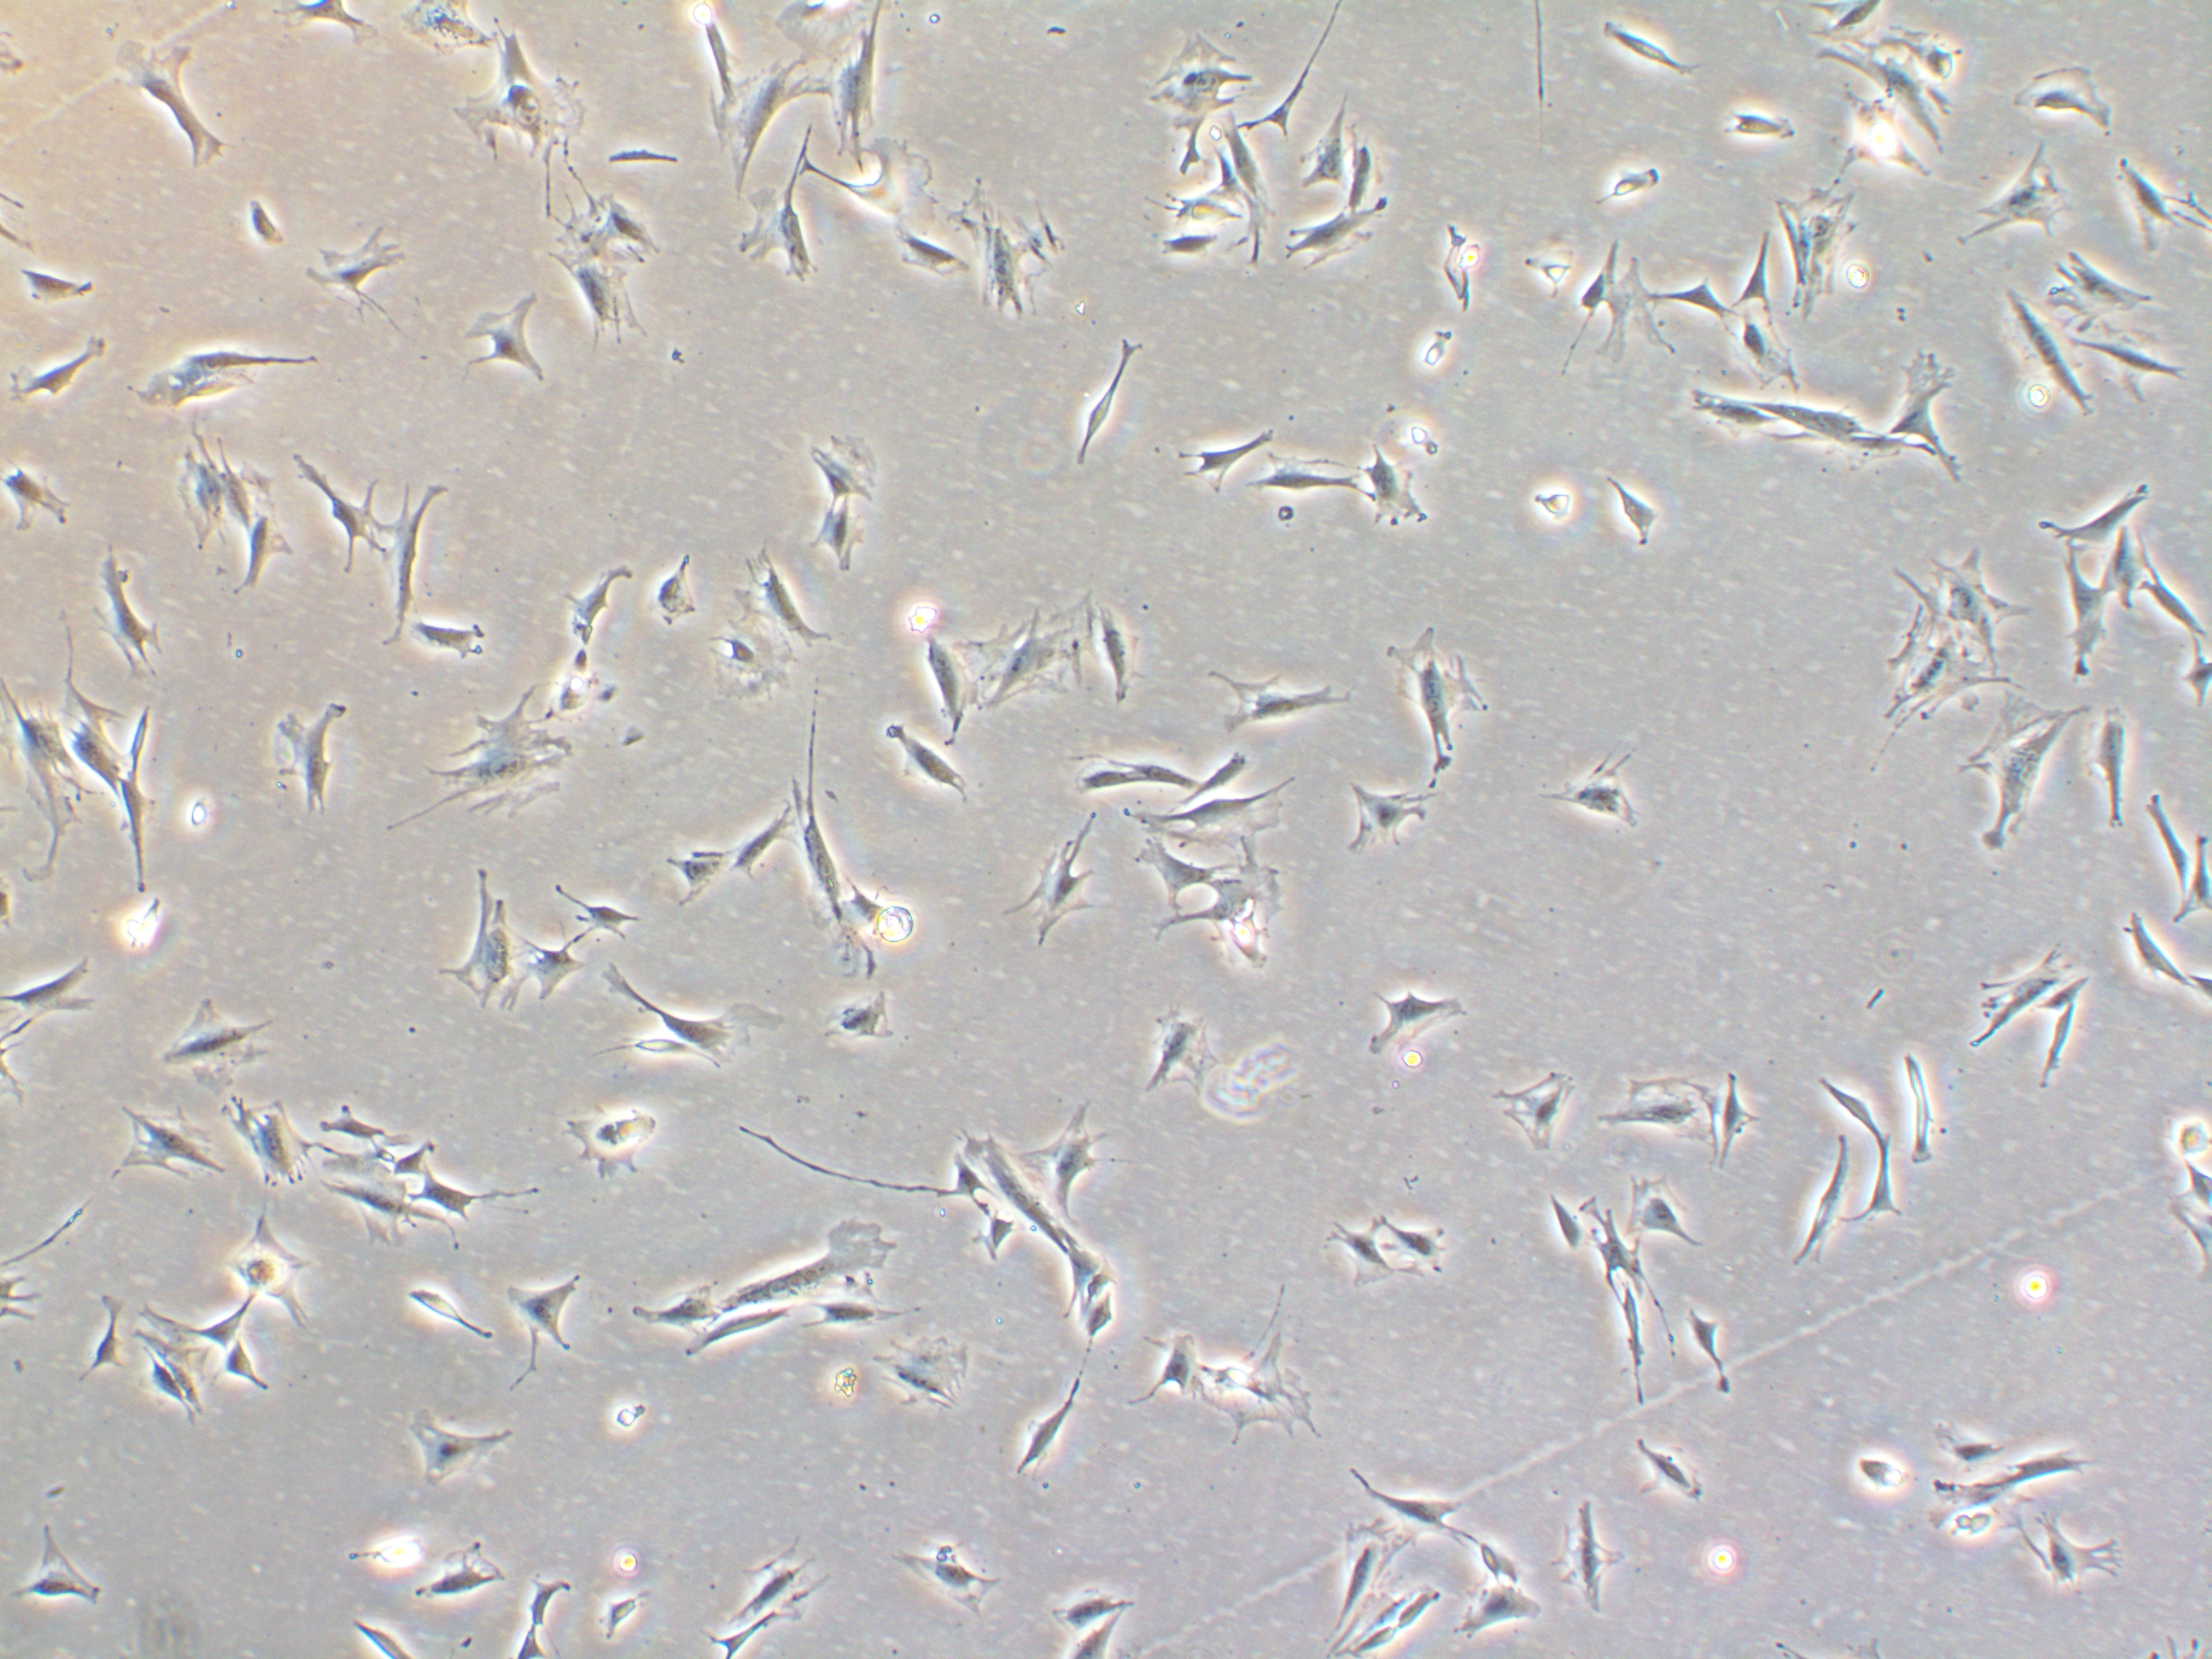small: (1512, 465, 1602, 554), (1714, 91, 1815, 162), (1578, 148, 1670, 218), (1510, 228, 1588, 310), (1836, 1438, 1925, 1509), (232, 192, 293, 270), (1386, 399, 1447, 467), (2144, 1100, 2212, 1159), (1407, 315, 1465, 376)
spread: (435, 7, 596, 197), (378, 695, 585, 828), (664, 28, 833, 185), (1940, 685, 2083, 861), (1158, 847, 1325, 992), (1188, 1328, 1350, 1460), (956, 584, 1104, 723), (1855, 624, 2003, 762), (944, 169, 1059, 326), (1594, 1037, 1724, 1168), (430, 863, 531, 1026), (1143, 33, 1256, 178), (1902, 537, 2026, 666), (152, 981, 289, 1094), (535, 228, 657, 345), (0, 706, 89, 864), (164, 437, 296, 544), (688, 610, 813, 720), (1770, 181, 1869, 317), (212, 1103, 324, 1211), (113, 1101, 219, 1180)
